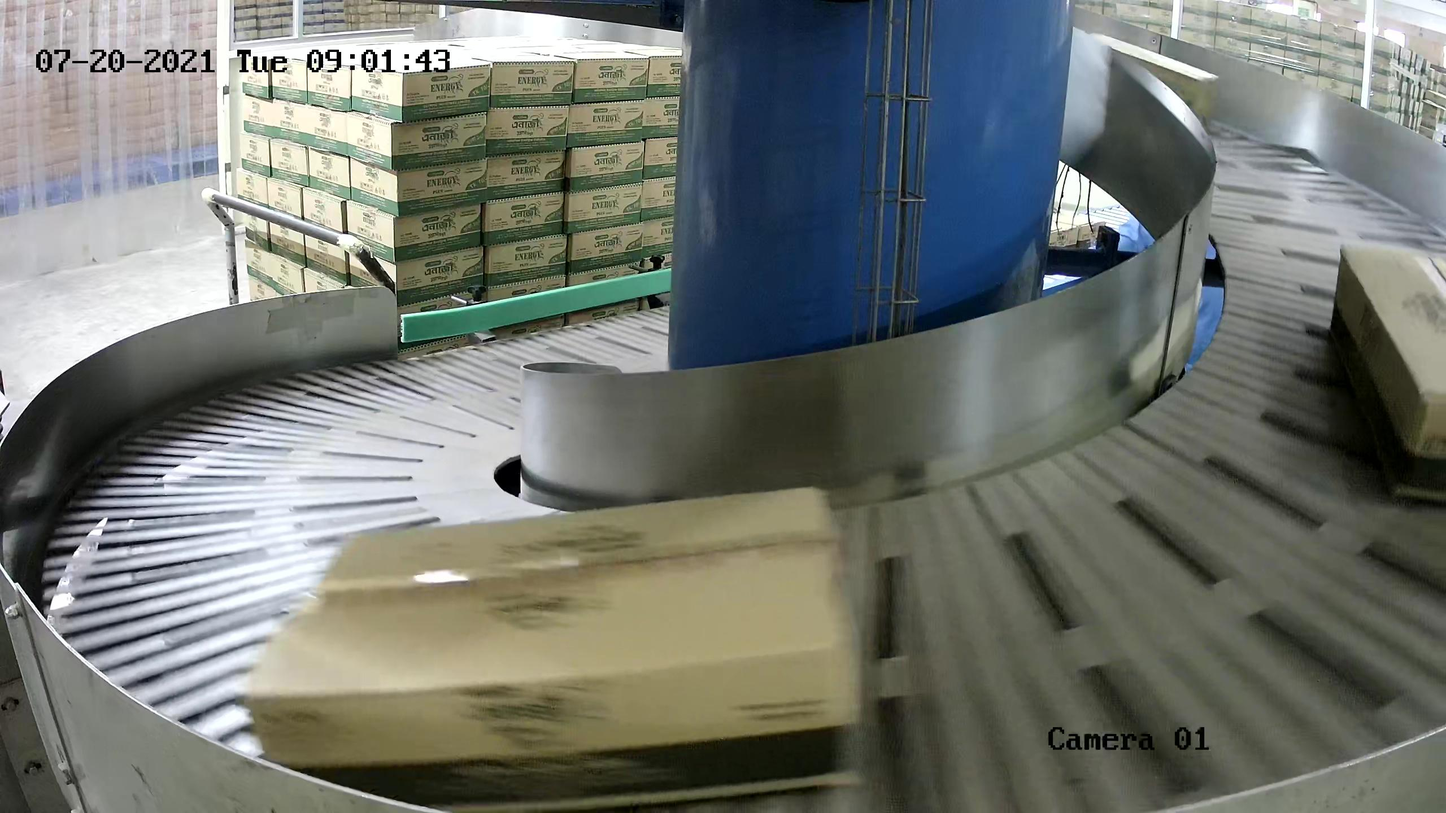Box: (231, 480, 871, 807), (1326, 239, 1446, 502), (1080, 30, 1220, 140)
